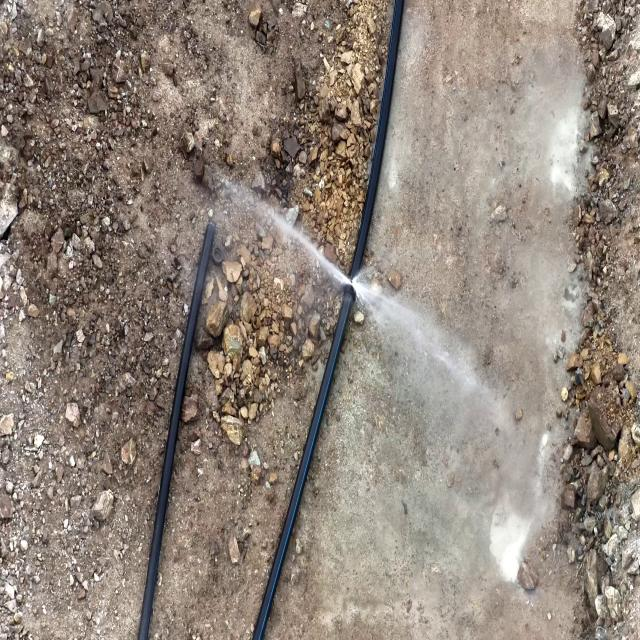leak: (256, 196, 403, 333)
